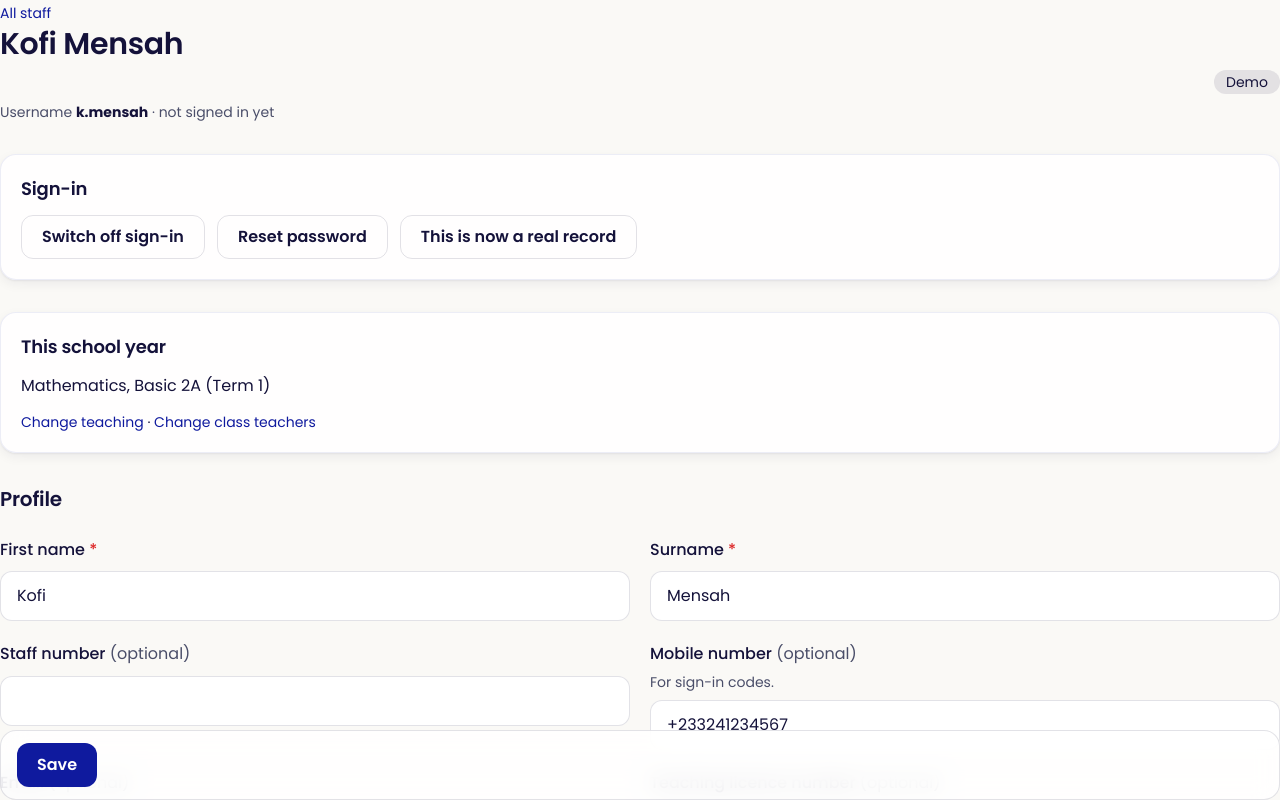
it: StaffDetailView › explains why the last Administrator can't be switched off
Click the button "Switch off sign-in" at (113, 237), box [21,215,205,259]
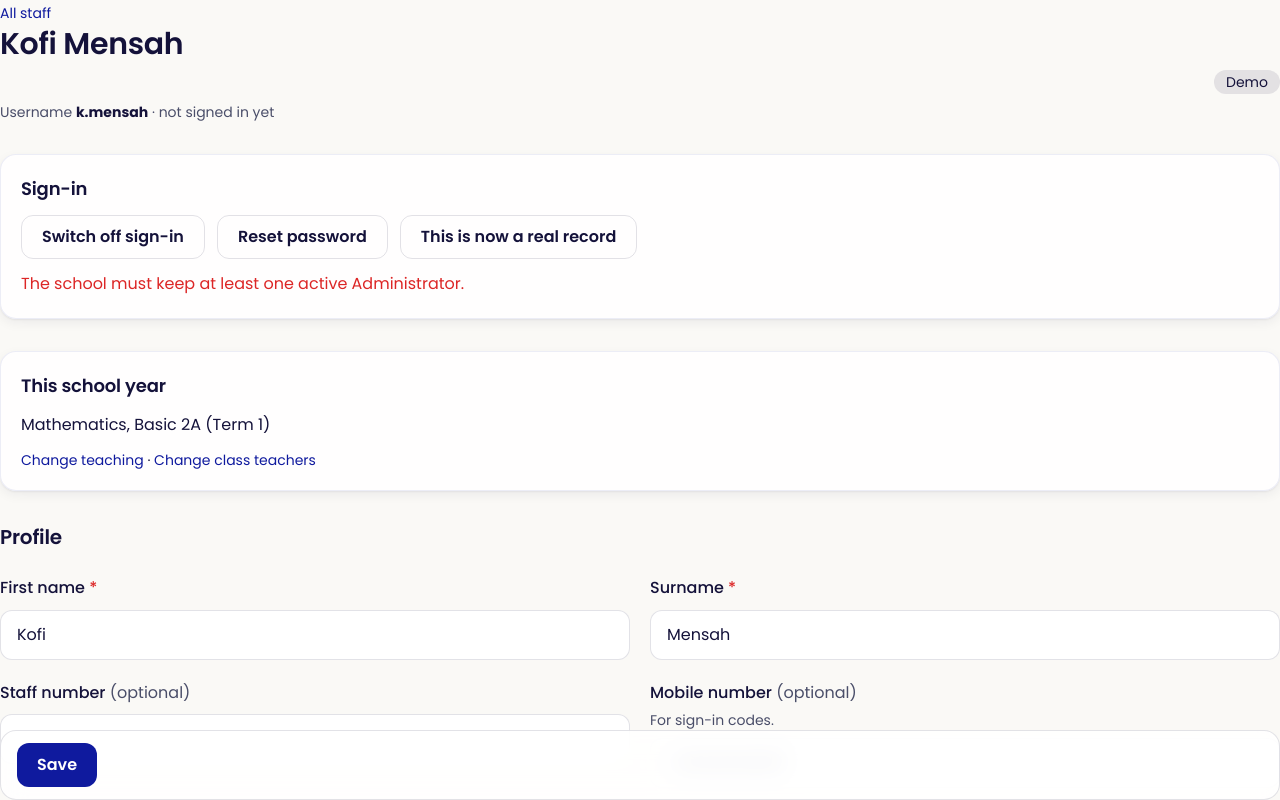
expect the text "The school must keep at least one active Administrator." is shown: met, box [21,272,464,295]
